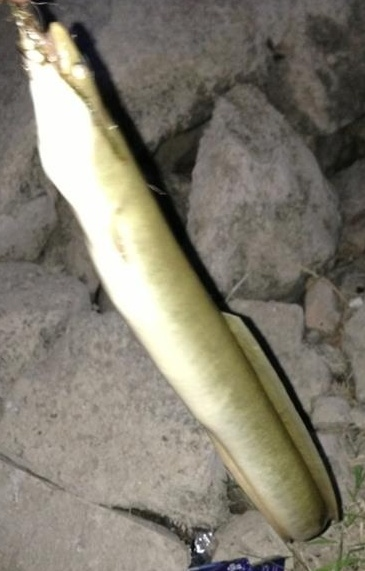Anguilla anguilla: (20, 20, 345, 551)
